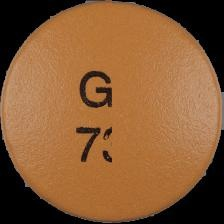16590-074: (0, 0, 224, 224)
